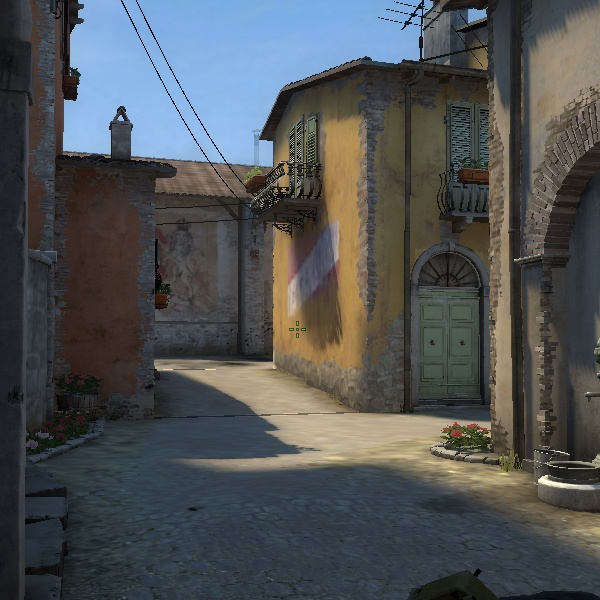ct_body: (151, 270, 171, 311)
